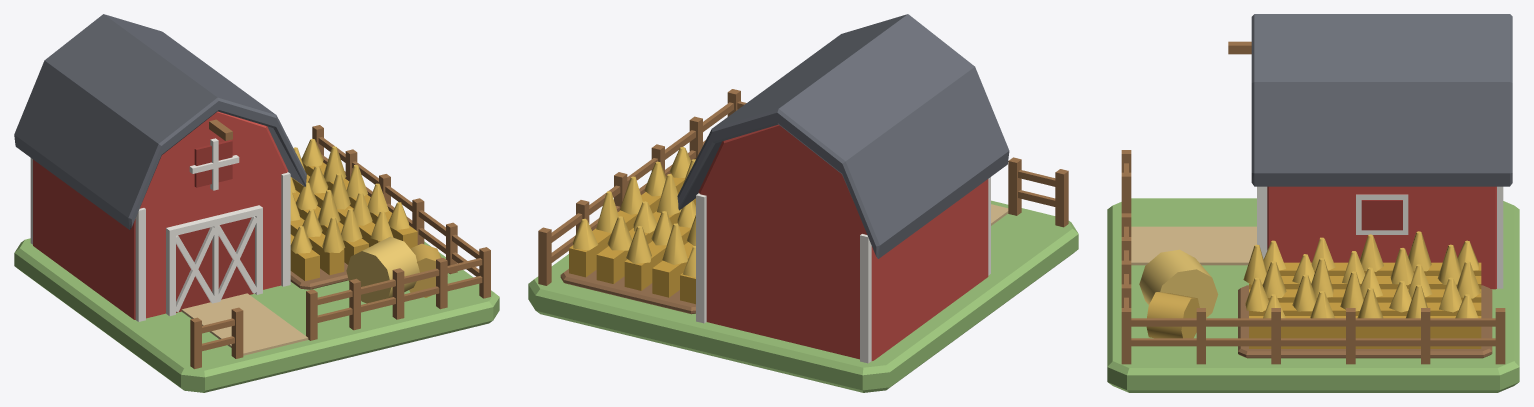
The model's file is farm_tile.glb.
3 renders of one model, left to right at view 1: azimuth 30°, elevation 25°; view 2: azimuth 150°, elevation 25°; view 3: azimuth 270°, elevation 25°, orthographic. The views are drawn at different scales.
Visible parts, largest first — view 1: barn_roof, barn_body, ground, barn_door, path, hay_bale, trim_corner_l0, fence_right_rail_1, fence_front_rail_1_1, fence_front_rail_1_0, trim_corner_r0, hayloft_door (+35 smaller); view 2: barn_body, barn_roof, ground, field_soil, wheat_row_4, fence_right_rail_1, trim_corner_l1, trim_corner_r1, wheat_row_3, wheat_row_2, wheat_row_1, fence_right_post_5 (+13 smaller); view 3: barn_roof, ground, barn_body, path, wheat_row_4, field_soil, hay_bale, fence_right_rail_1, fence_right_rail_0, hay_bale_small, side_window_cross, wheat_row_3 (+37 smaller).
Part boxes in pixels (x1,y1,x2,y2): barn_roof: (14,14,306,229); barn_body: (33,111,288,319); ground: (14,238,499,392); barn_door: (176,217,254,312); path: (181,293,308,355); hay_bale: (346,236,419,303); trim_corner_l0: (135,208,145,321); fence_right_rail_1: (318,137,479,258); fence_front_rail_1_1: (317,258,482,304); fence_front_rail_1_0: (317,276,482,322); trim_corner_r0: (281,172,290,286); hayloft_door: (194,140,232,187); barn_body: (698,124,988,360); barn_roof: (677,14,1009,258); ground: (528,200,1078,392); field_soil: (560,269,695,314); wheat_row_4: (569,173,685,277); fence_right_rail_1: (551,102,733,242); trim_corner_l1: (860,234,871,363); trim_corner_r1: (696,193,706,323); wheat_row_3: (596,198,695,283); wheat_row_2: (624,223,690,290); wheat_row_1: (652,242,693,297); fence_right_post_5: (538,227,551,285); barn_roof: (1251,14,1512,186); ground: (1107,198,1519,392); barn_body: (1267,186,1496,289); path: (1131,226,1256,265); wheat_row_4: (1249,316,1481,348); field_soil: (1238,285,1492,358); hay_bale: (1139,249,1218,317); fence_right_rail_1: (1131,318,1495,326); fence_right_rail_0: (1131,338,1495,346); hay_bale_small: (1146,292,1199,338); side_window_cross: (1361,200,1402,230); wheat_row_3: (1249,302,1481,315).
Bounding box in the file's own units: 3 × 2.07 × 3.
